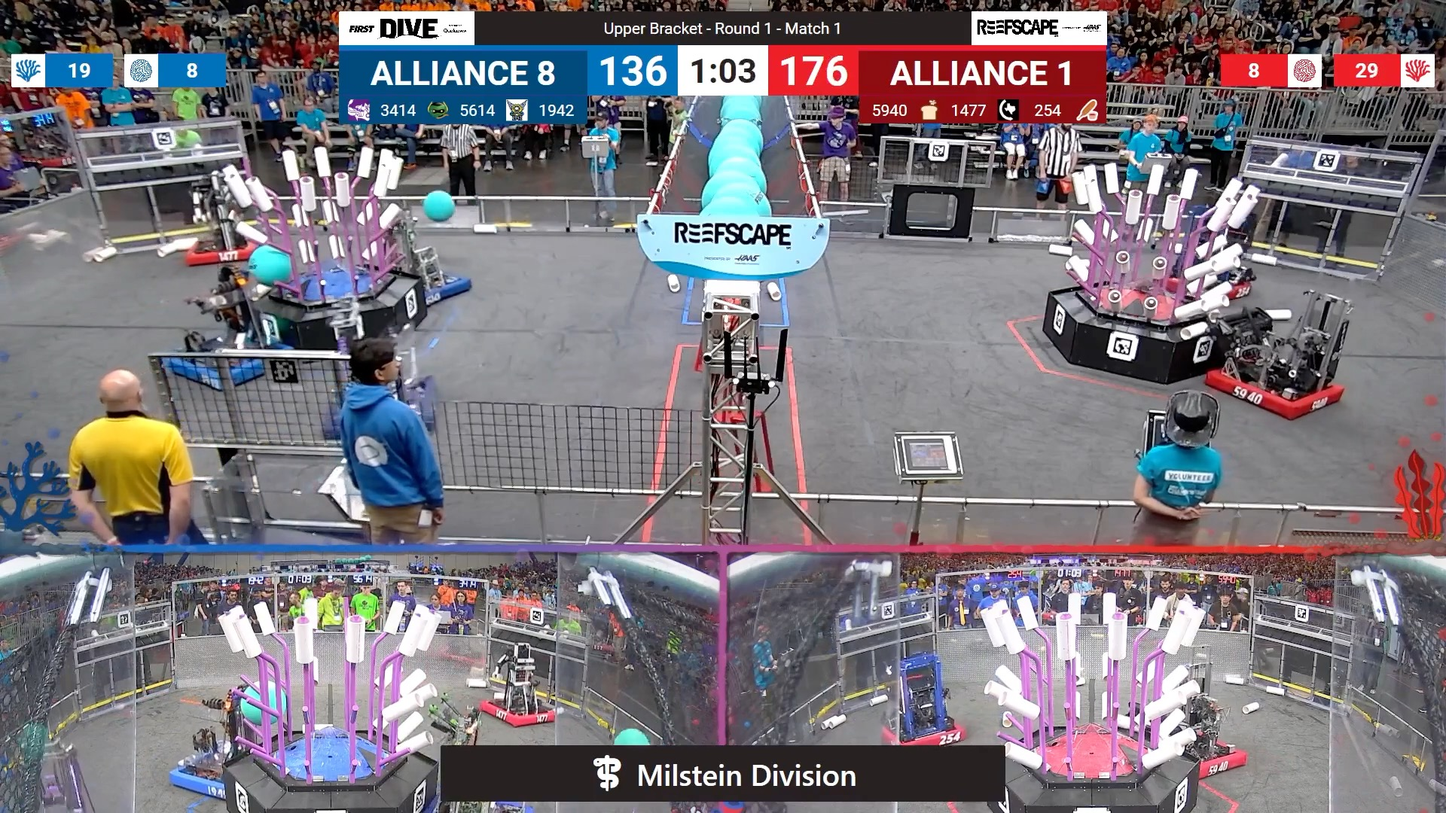bumpers: (1194, 355, 1353, 423), (153, 344, 287, 392), (160, 747, 242, 800), (1176, 733, 1256, 782), (390, 260, 478, 304), (875, 713, 968, 750), (470, 695, 561, 732), (182, 238, 268, 268)
